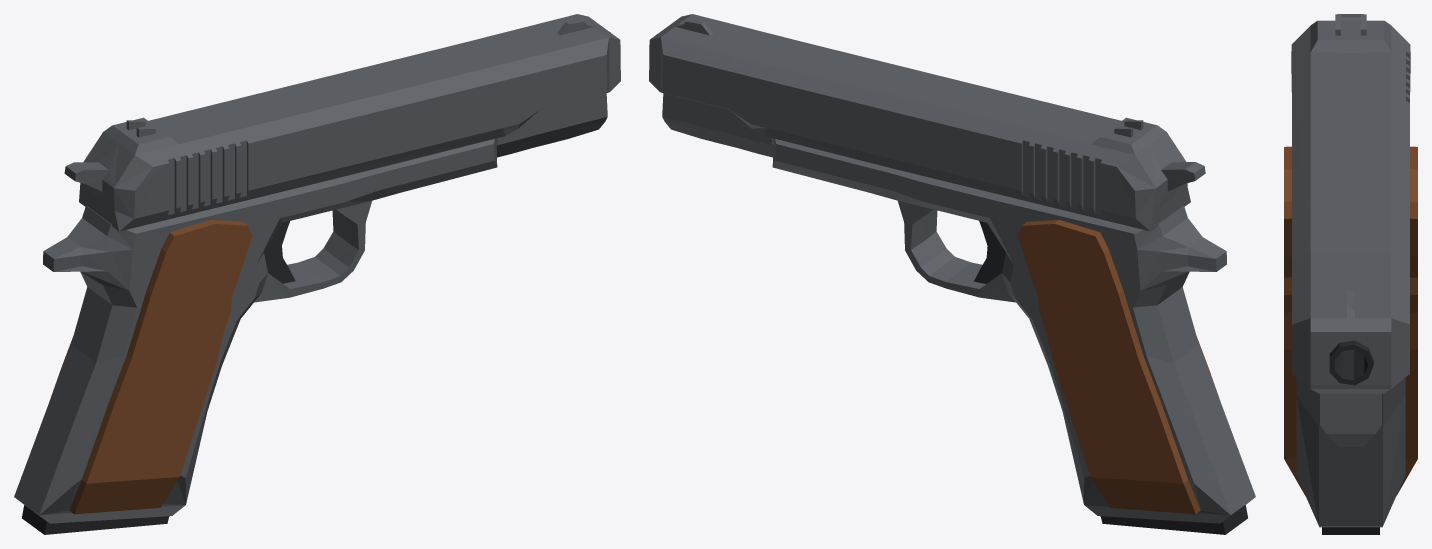
Rendered from Pistol.glb.
The picture shows the model from 3 angles, left to right: view 1: azimuth 30°, elevation 25°; view 2: azimuth 150°, elevation 25°; view 3: azimuth 270°, elevation 25°; orthographic projection. The views are drawn at different scales.
Size of the model in its own units: 0.2 by 0.1295 by 0.0311.
Materials: 4 (4 with a texture image).
